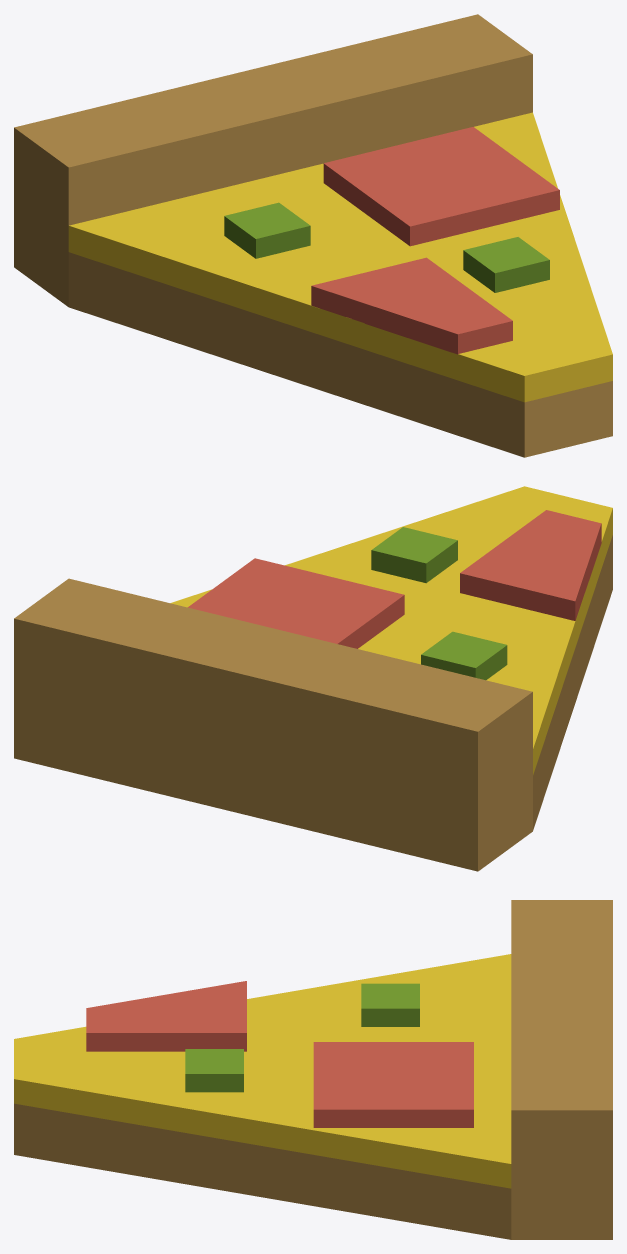
Rendered from pizza.glb.
3 renders of one model, top to bottom at view 1: azimuth 30°, elevation 25°; view 2: azimuth 150°, elevation 25°; view 3: azimuth 270°, elevation 25°, orthographic. The views are drawn at different scales.
Visible parts, largest first — view 1: Food_Pizza_01; view 2: Food_Pizza_01; view 3: Food_Pizza_01.
Boxes of the visible parts, <box> form: Food_Pizza_01: <box>14,14,612,457</box>; Food_Pizza_01: <box>14,486,612,871</box>; Food_Pizza_01: <box>14,900,612,1239</box>.
Bounding box in the file's own units: 0.4597 × 0.1323 × 0.5536.
1 material, 1 textured.
